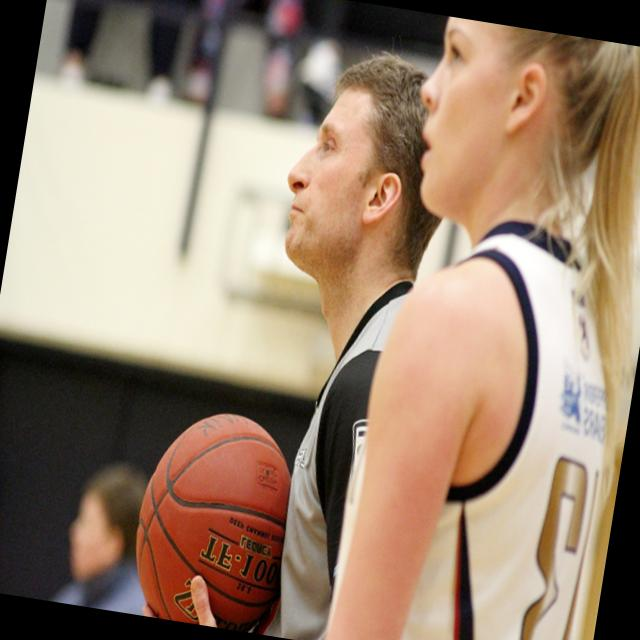Ball: (122, 404, 304, 635)
